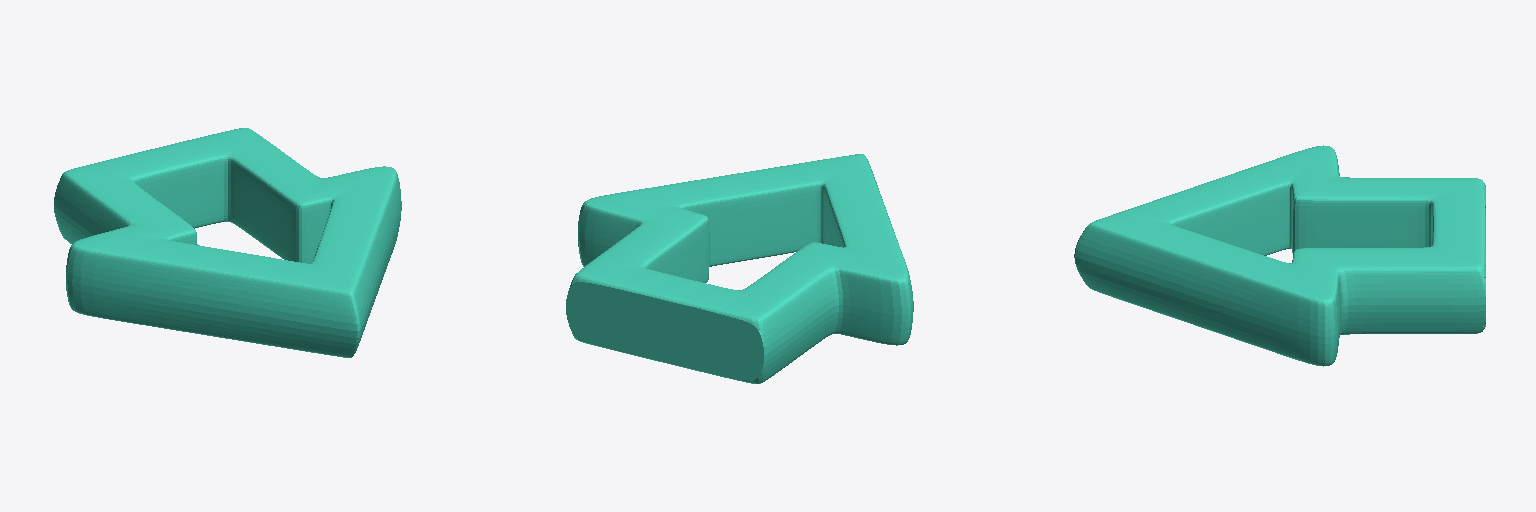
The model's file is arrow.obj.
3 views of the same model, side by side, from view 1: azimuth 30°, elevation 25°; view 2: azimuth 150°, elevation 25°; view 3: azimuth 270°, elevation 25° (orthographic).
Visible parts, largest first — view 1: 19757_Up_arrow_v1; view 2: 19757_Up_arrow_v1; view 3: 19757_Up_arrow_v1.
Boxes of the visible parts, box(x1,y1,x2,y2) form: 19757_Up_arrow_v1: box(54, 128, 401, 357); 19757_Up_arrow_v1: box(566, 154, 913, 383); 19757_Up_arrow_v1: box(1074, 145, 1485, 366).
Bounding box in the file's own units: 6.62 × 1.3 × 7.11.